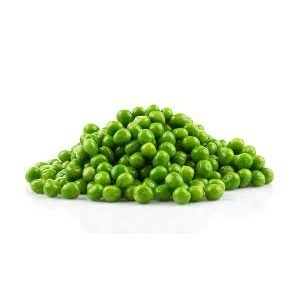green pea_brain food: (77, 118, 206, 196)
